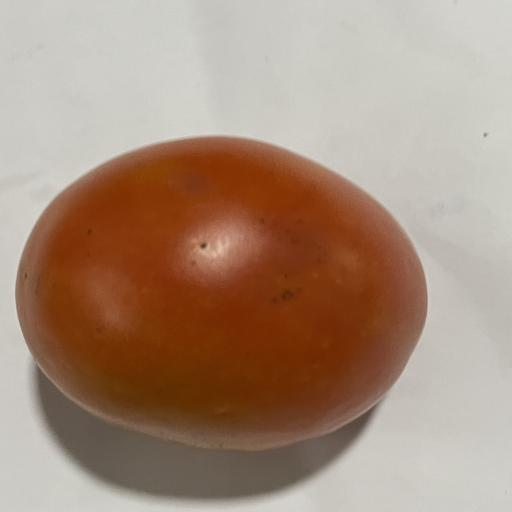unripe: (16, 138, 427, 450)
